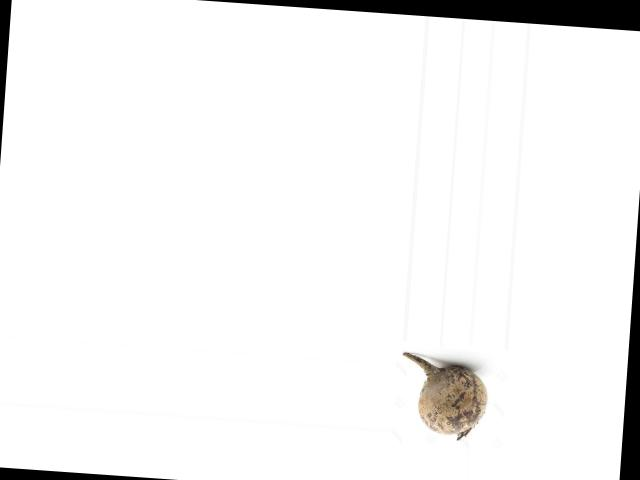beet: (397, 352, 491, 441)
